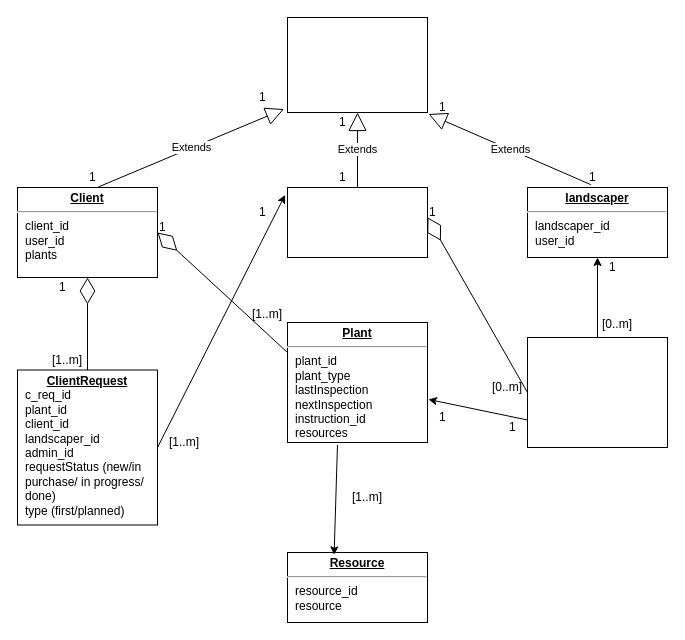
Some shapes in this 685 by 640 pixel diagram are drawn without their labels. The shapes that lost their labels are listed below. From the top down, each one's centre as x and y in pixels, then its label:
At point 357,64: "User user_id login FirstName SecondName".
At point 357,222: "Admin admin_id user_id".
At point 597,392: "PurchaseRequest p_req_id clientRequest_id plant_id admin_id landscaper_id".
